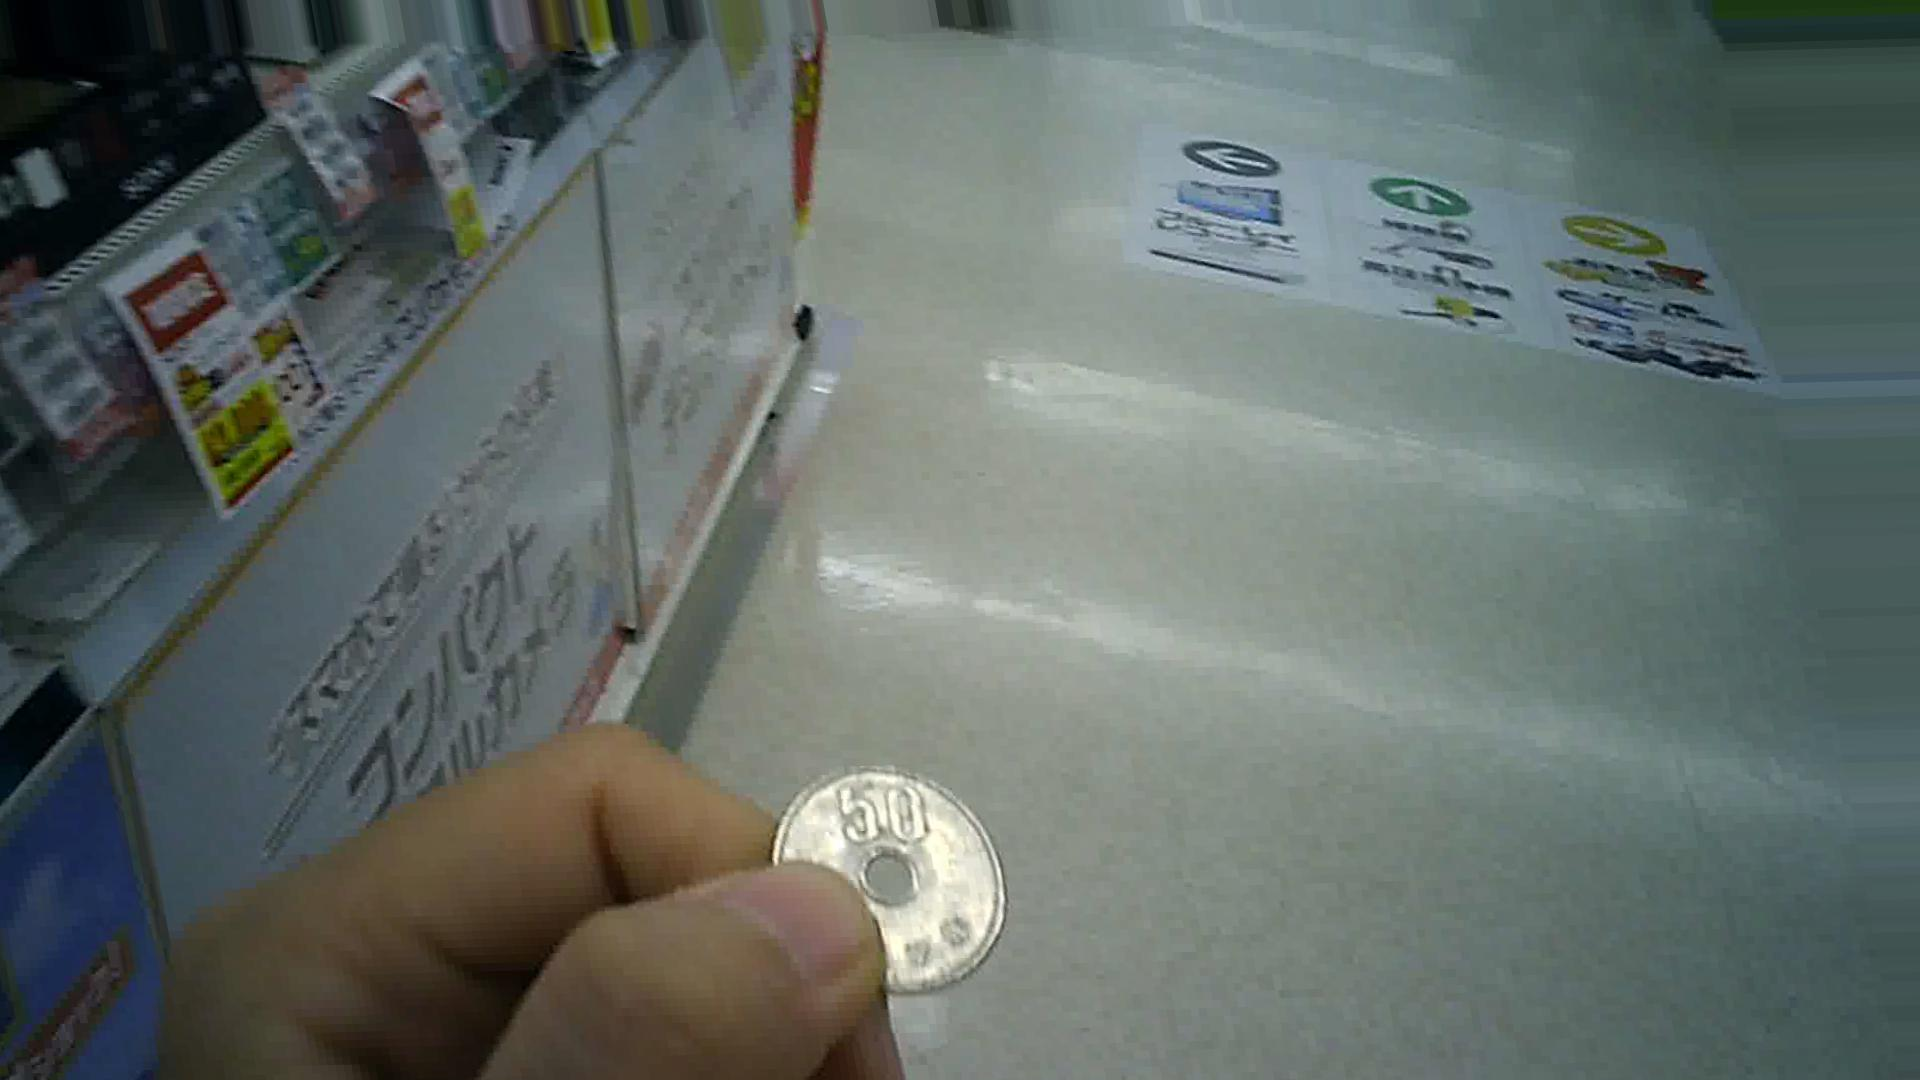50 Yen: (769, 765, 1009, 978)
